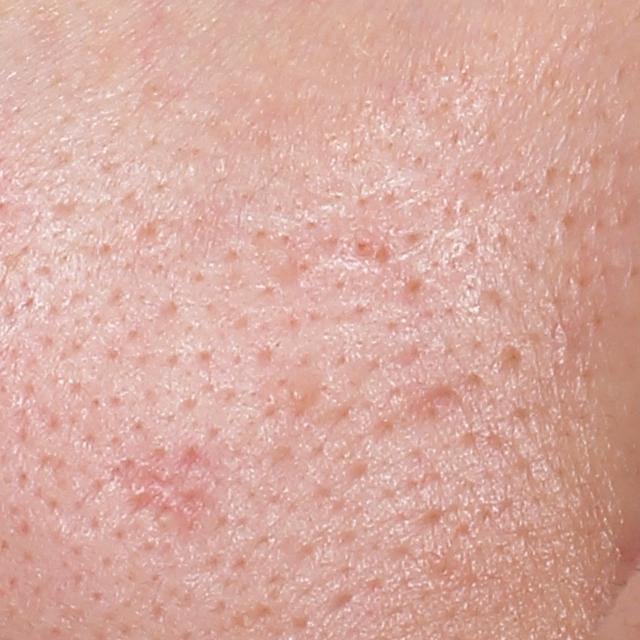atrophic_scar: (109, 449, 212, 535), (244, 224, 346, 299), (398, 388, 464, 427), (497, 340, 529, 382)
comedo: (284, 377, 320, 408)
